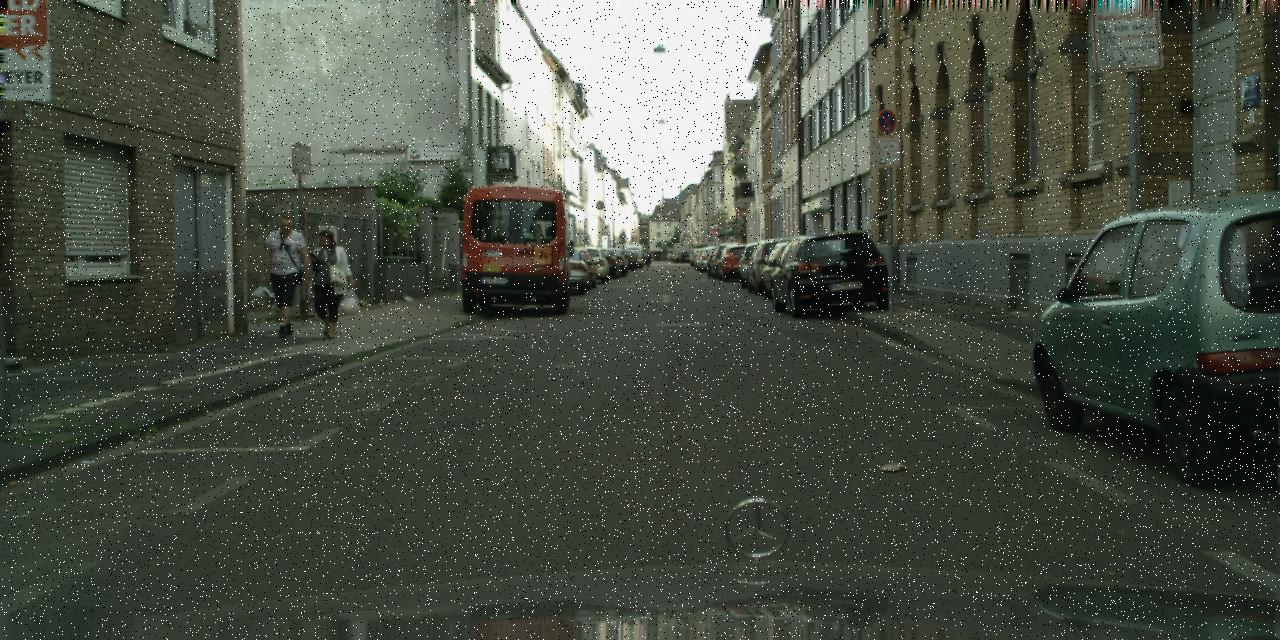ped: (262, 215, 310, 335), (306, 228, 348, 336), (644, 250, 650, 266)
